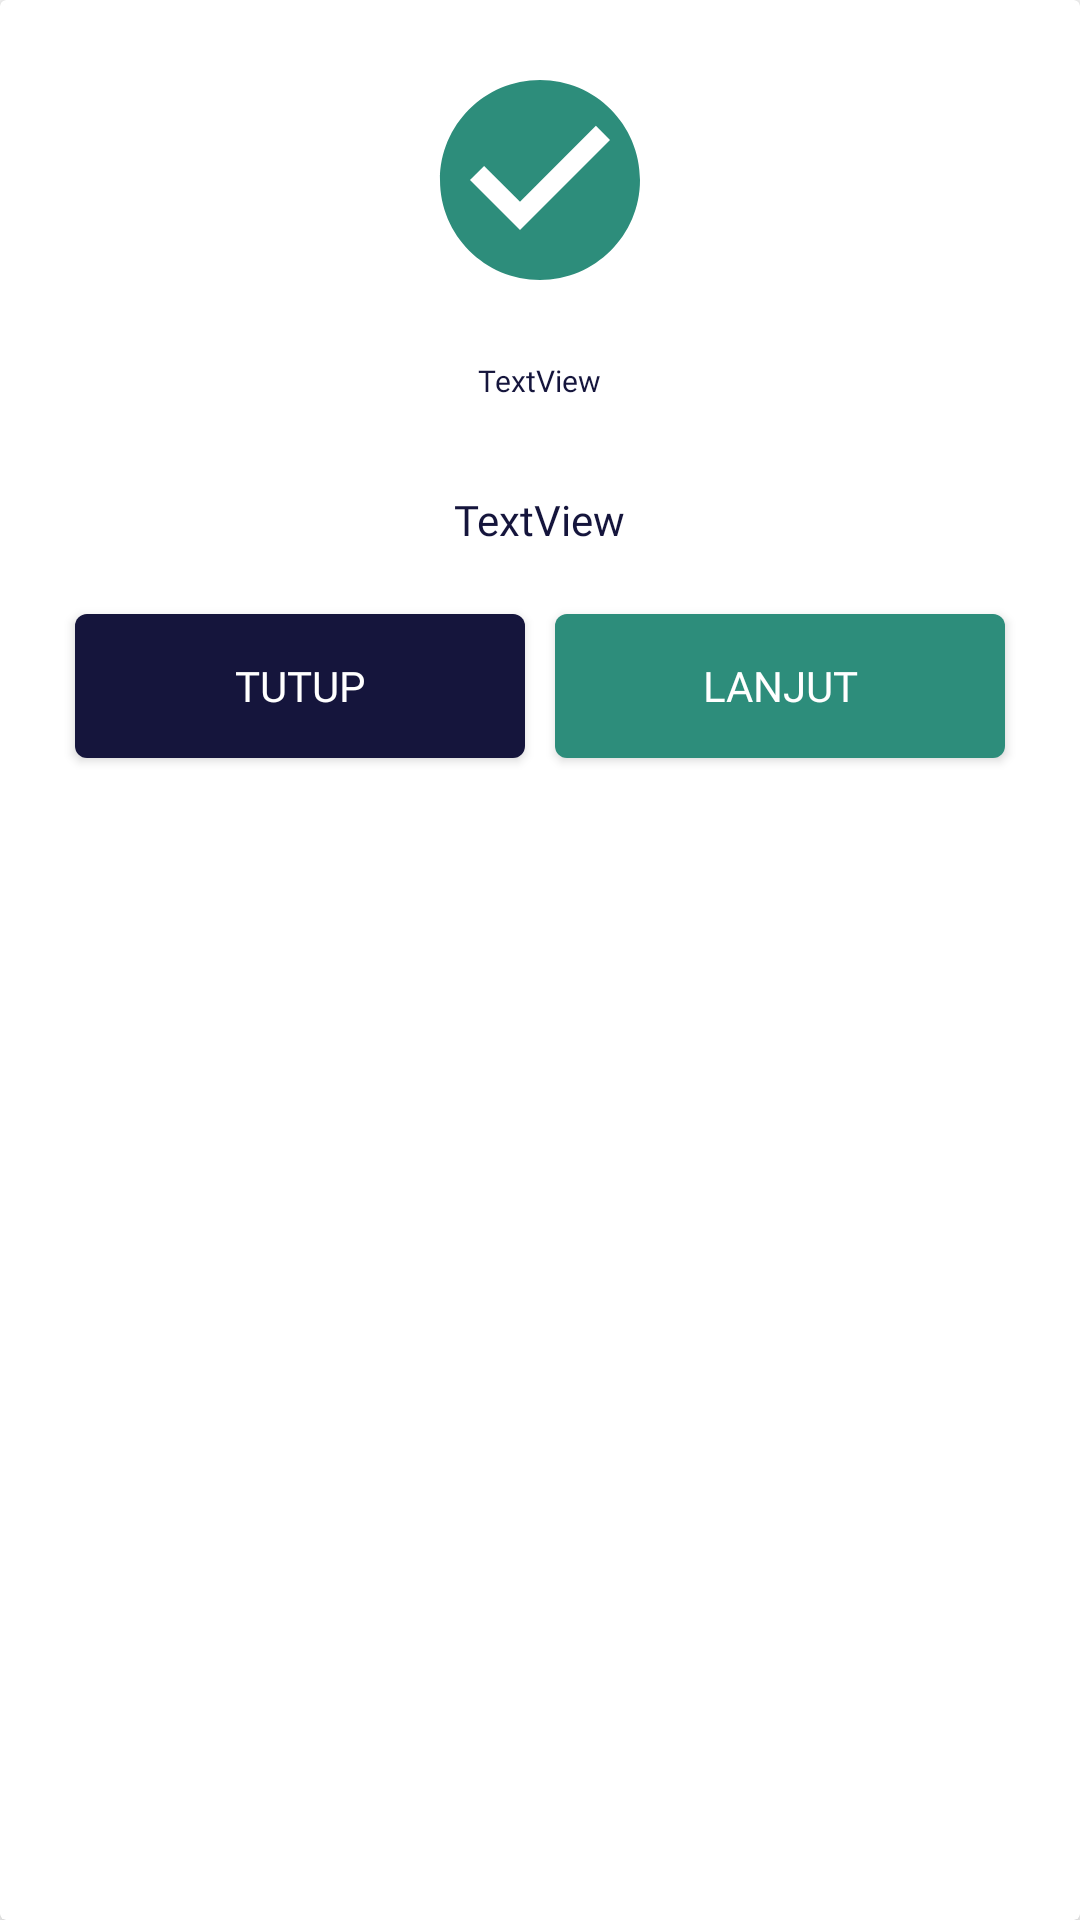

Icon click points for this 1080 × 1920 phone screenshot, format [x,y]:
done: [540,180]
